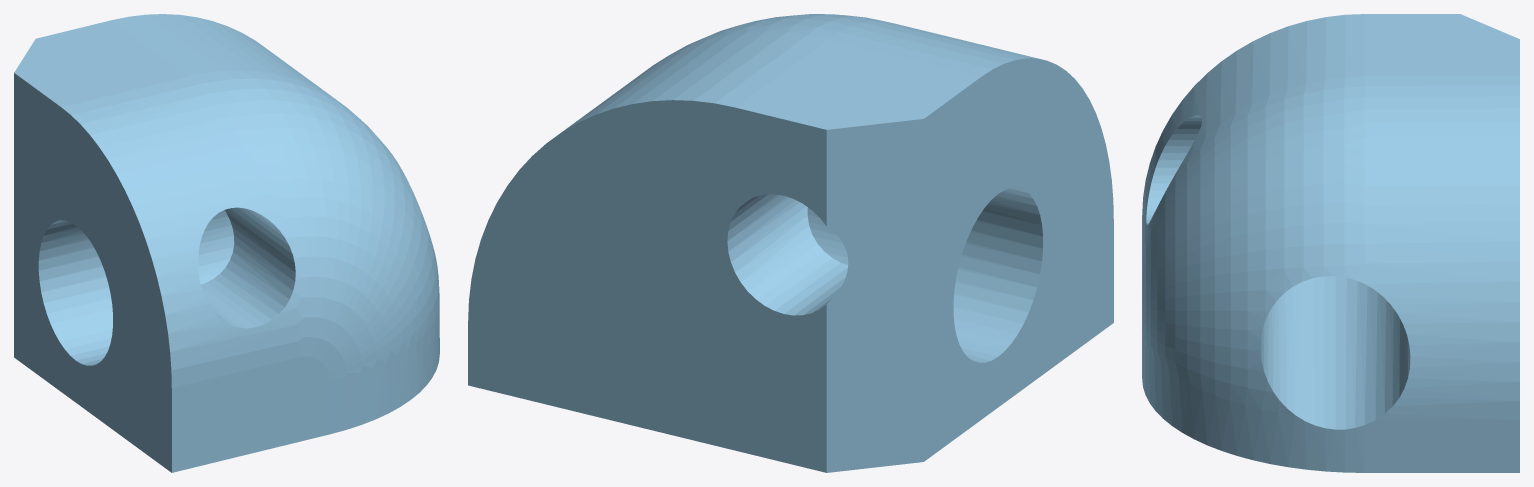
Rendered from Weirdo01.dae.
3 views of the same model, side by side, from view 1: azimuth 30°, elevation 25°; view 2: azimuth 150°, elevation 25°; view 3: azimuth 270°, elevation 25° (orthographic). The views are drawn at different scales.
Parts seen in each view (by area): view 1: ID2; view 2: ID2; view 3: ID2.
Part boxes in pixels (x1,y1,x2,y2): ID2: (14,14,439,472); ID2: (468,14,1113,472); ID2: (1142,14,1519,472).
Size of the model in its own units: 0.0347 by 0.0323 by 0.0271.
